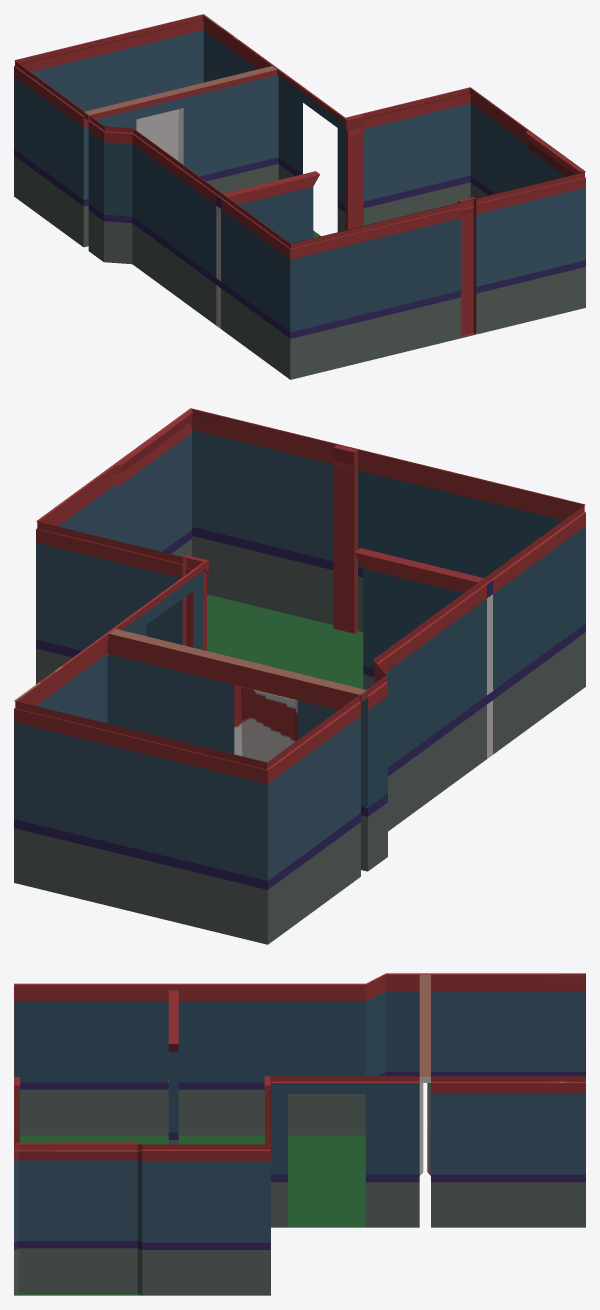
Rendered from M_InHouse_Up.fbx.
3 views of the same model, one above another, from view 1: azimuth 30°, elevation 25°; view 2: azimuth 150°, elevation 25°; view 3: azimuth 270°, elevation 25° (orthographic). The views are drawn at different scales.
Visible parts, largest first — view 1: House_Up; view 2: House_Up; view 3: House_Up.
Part boxes in pixels (box(x1,y1,x2,y2)): House_Up: box(14, 14, 585, 379); House_Up: box(14, 408, 585, 944); House_Up: box(14, 973, 585, 1295).
Bounding box in the file's own units: 681 × 281 × 963.
